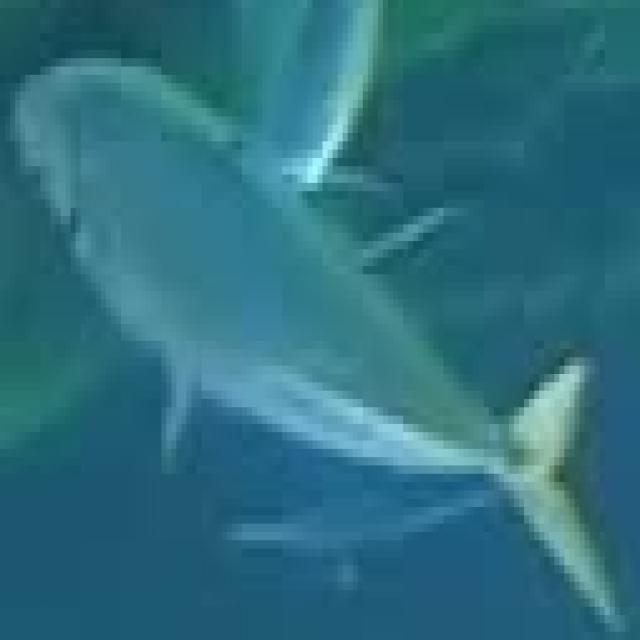fish: (5, 0, 640, 632)
